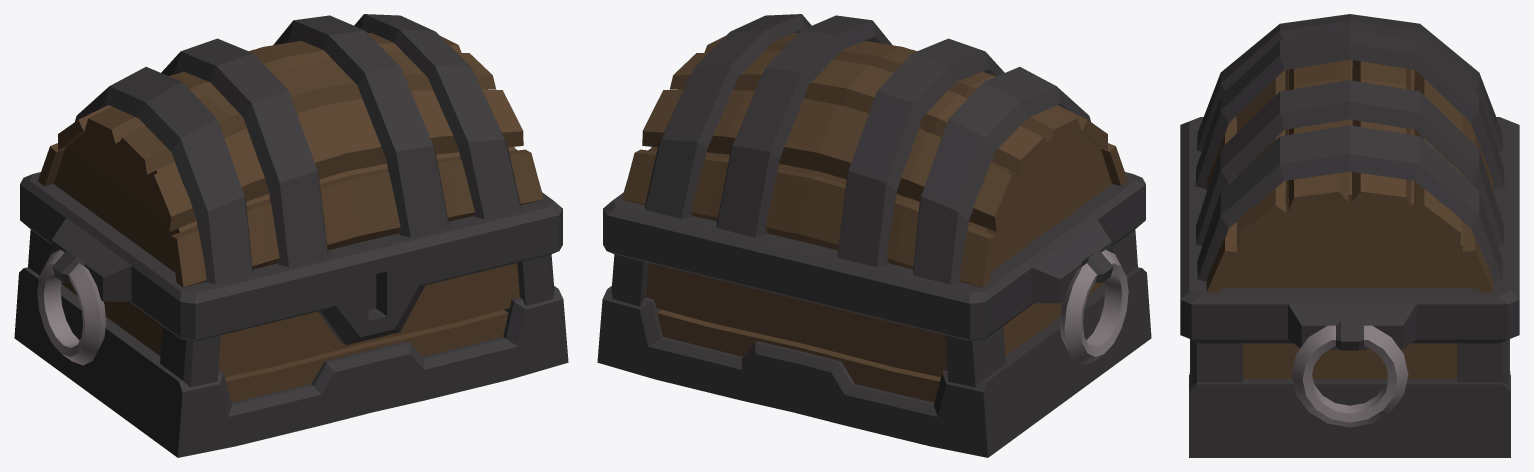
File: Prop_Chest_Closed.glb
3 renders of one model, left to right at view 1: azimuth 30°, elevation 25°; view 2: azimuth 150°, elevation 25°; view 3: azimuth 270°, elevation 25°, orthographic.
Parts seen in each view (by area): view 1: Prop_Chest_Closed; view 2: Prop_Chest_Closed; view 3: Prop_Chest_Closed.
Part boxes in pixels (x1,y1,x2,y2): Prop_Chest_Closed: [14, 14, 568, 457]; Prop_Chest_Closed: [597, 14, 1151, 457]; Prop_Chest_Closed: [1180, 14, 1519, 457].
Size of the model in its own units: 1.39 by 0.8812 by 0.8875.
Materials: 1 (1 with a texture image).
